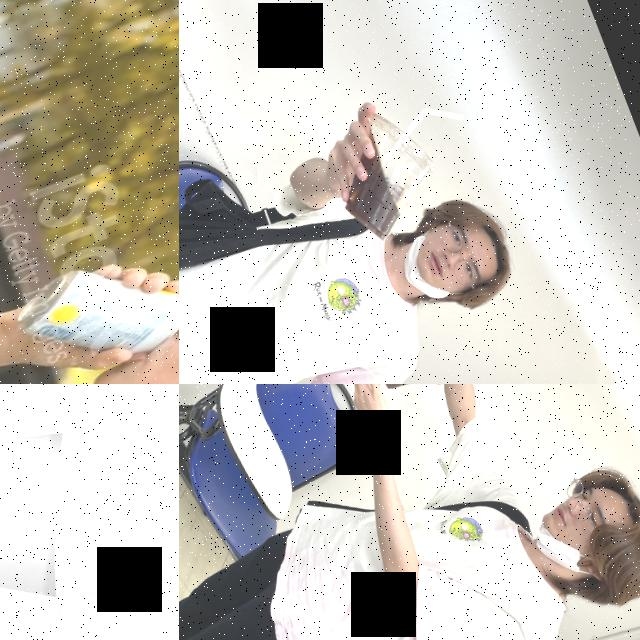can: (2, 231, 179, 384)
cup: (0, 384, 173, 640), (314, 98, 453, 252)
